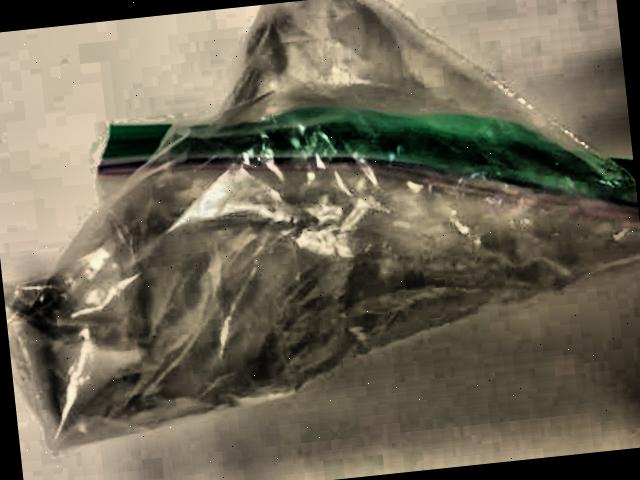Plastic: (0, 0, 640, 469)
